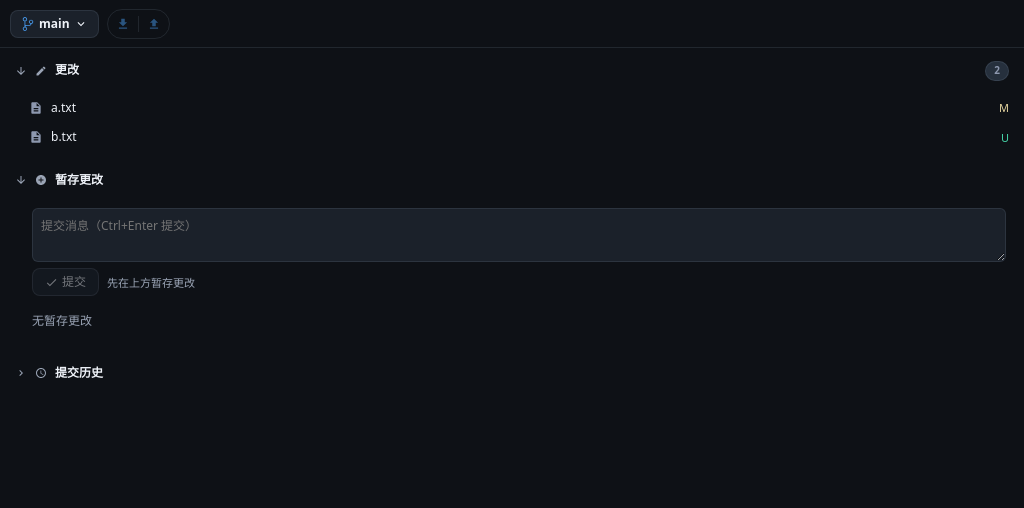
GitView 提交历史 › 展示提交历史（主题/作者/时间/短哈希），位于暂存区之后
Step 1. Click the button with class "git-section-head" showing "提交历史" → (59, 372), box x1=15 y1=364 x2=103 y2=381
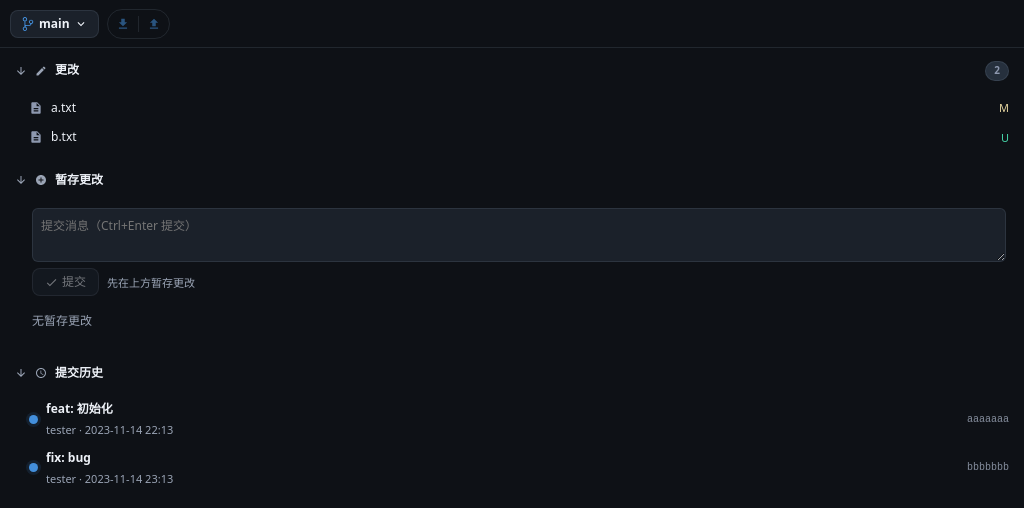
Now the number of buttons with class "git-log-item" is 2, box x1=20 y1=396 x2=1018 y2=443; x1=20 y1=444 x2=1018 y2=492
Now the text with class "git-log-subject" reads "feat: 初始化", box x1=46 y1=400 x2=113 y2=418
Now the text with class "git-log-meta" shows "tester", box x1=46 y1=422 x2=173 y2=437
